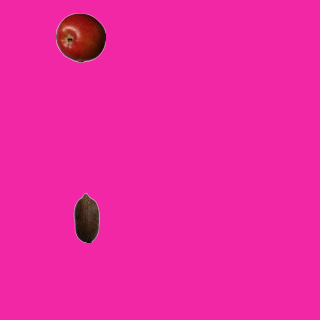Apple Braeburn: (55, 12, 105, 62)
Nut Pecan: (61, 192, 111, 242)
